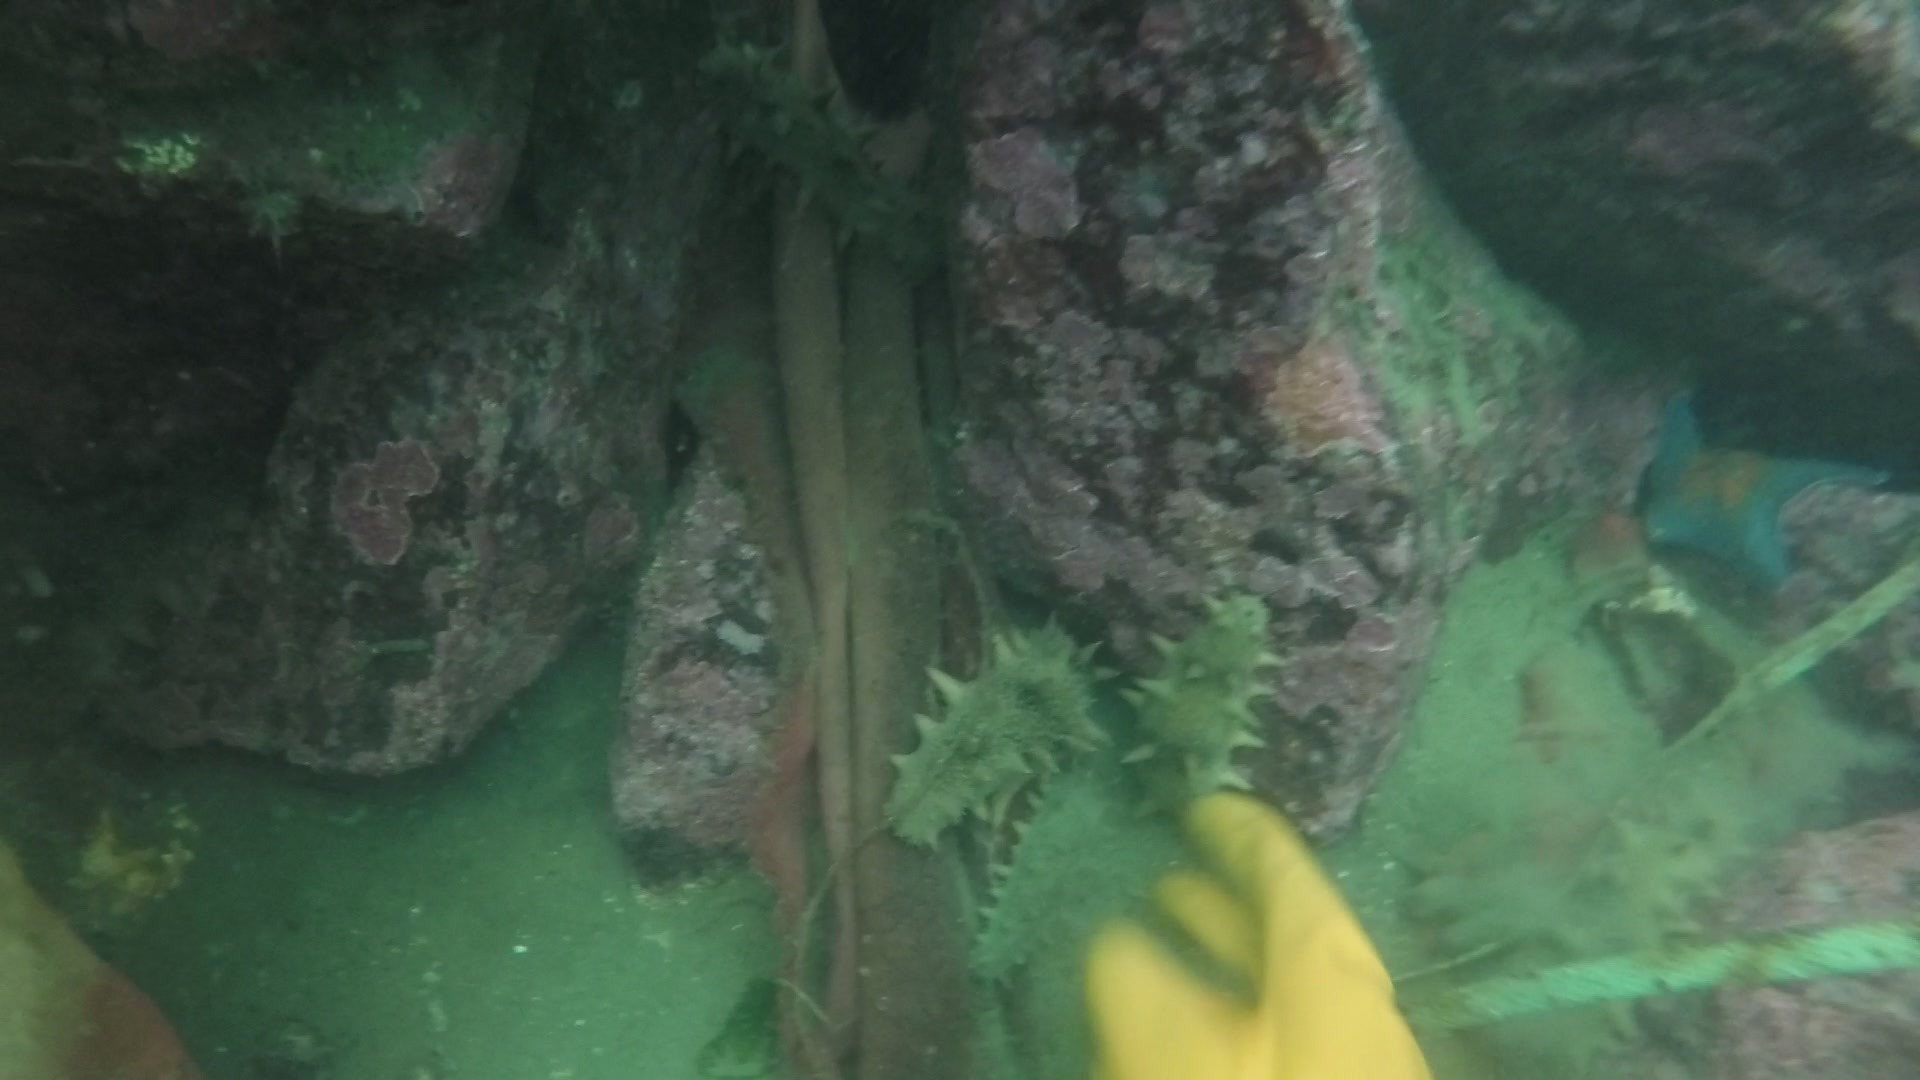holothurian: (686, 45, 953, 273), (1390, 810, 1737, 953), (893, 615, 1095, 835), (1126, 589, 1267, 814), (967, 769, 1112, 978)
starfish: (1633, 386, 1905, 578)
